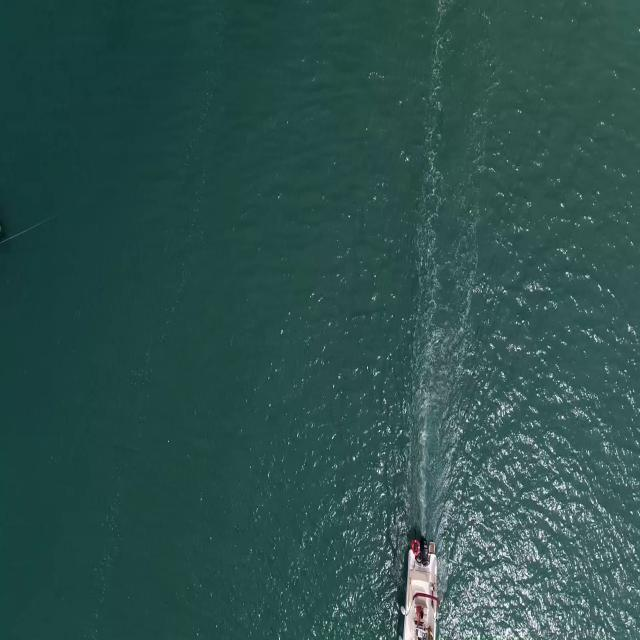boat: (399, 552, 440, 640)
life_buoy: (411, 536, 423, 556)
person: (414, 600, 424, 624)
